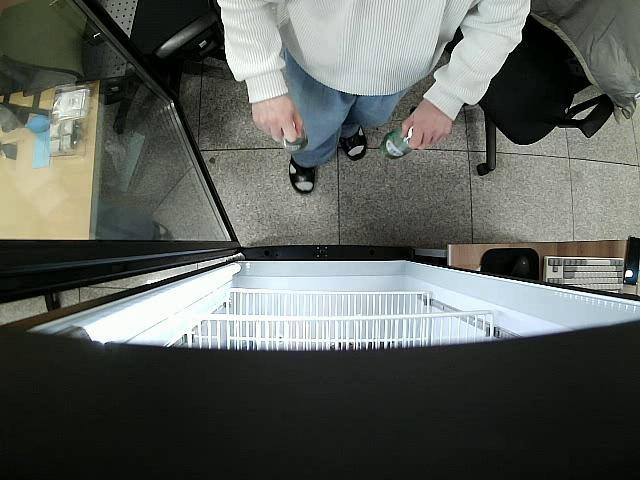18_trevi: (378, 120, 414, 162), (281, 128, 310, 154)
